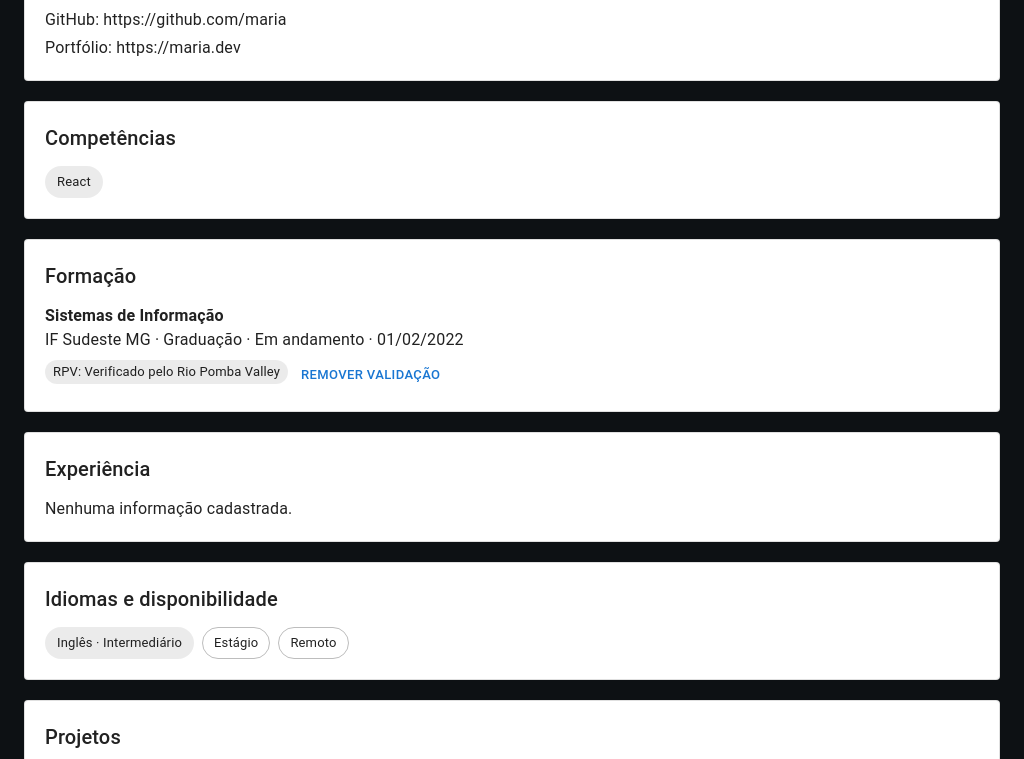
it: AdminStudentDetailView RPV validation removal › removes the validation, reloads the profile and shows the notice
(page scrolled)
Click the button "Remover validação". click: (371, 375)
box: left=296, top=360, right=445, bottom=391
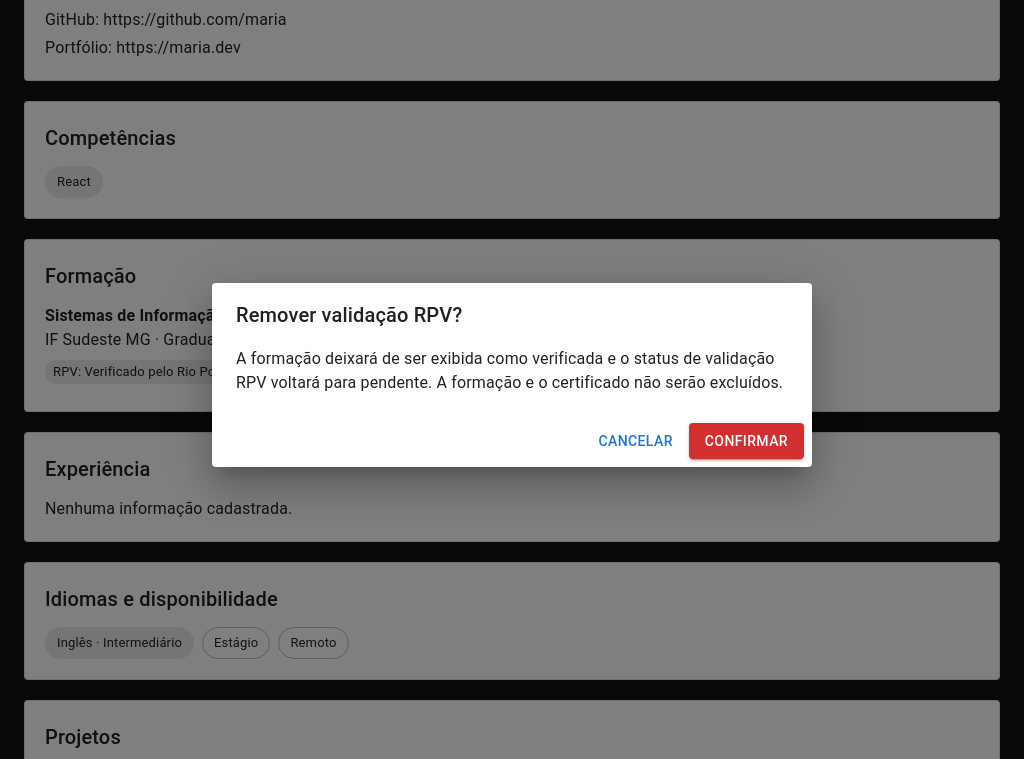
Click the button "Confirmar". click: (746, 441)
box: left=689, top=423, right=804, bottom=459
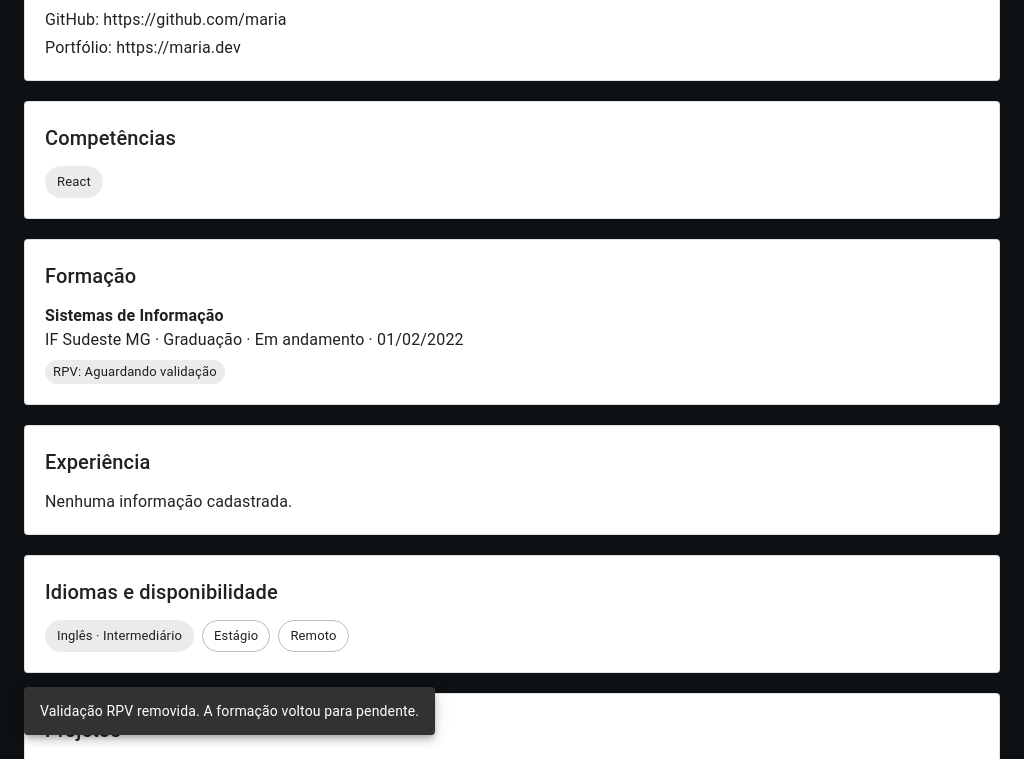
Expected: the text "Validação RPV removida. A formação voltou para pendente." is shown, left=40, top=703, right=419, bottom=719
Expected: the dialog is gone
Expected: the text "RPV: Aguardando validação" is shown, left=45, top=362, right=225, bottom=382
